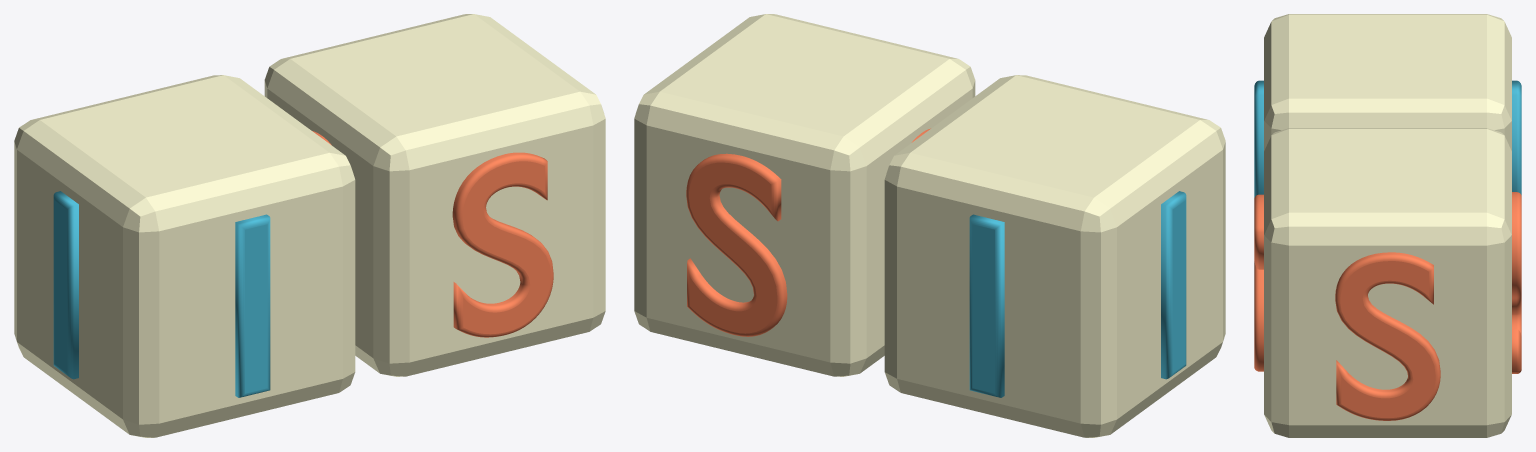
3 views of the same model, side by side, from view 1: azimuth 30°, elevation 25°; view 2: azimuth 150°, elevation 25°; view 3: azimuth 270°, elevation 25° (orthographic). The views are drawn at different scales.
Visible parts, largest first — view 1: Is; view 2: Is; view 3: Is.
Boxes of the visible parts, x1,y1,x2,y2 form: Is: (14, 14, 605, 437); Is: (634, 14, 1225, 437); Is: (1254, 14, 1521, 437).
Size of the model in its own units: 434 by 200 by 216.
